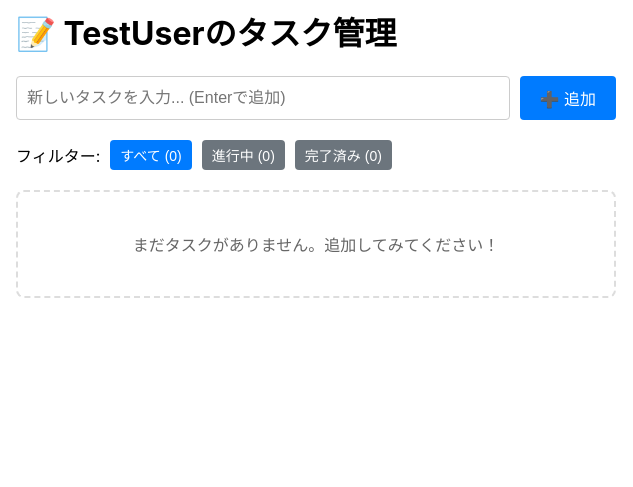
Test case: Task Filtering Integration Tests (US2) › フィルター切り替えの受入シナリオ › AS-003: 「進行中」フィルターで未完了タスクのみ表示される
3つのタスクを追加
In the field with placeholder "新しいタスクを入力... (Enterで追加)": [263, 98] box [16,76,510,120], type "未完了タスク1"
Click the button "➕ 追加": [568, 98] box [520,76,616,120]
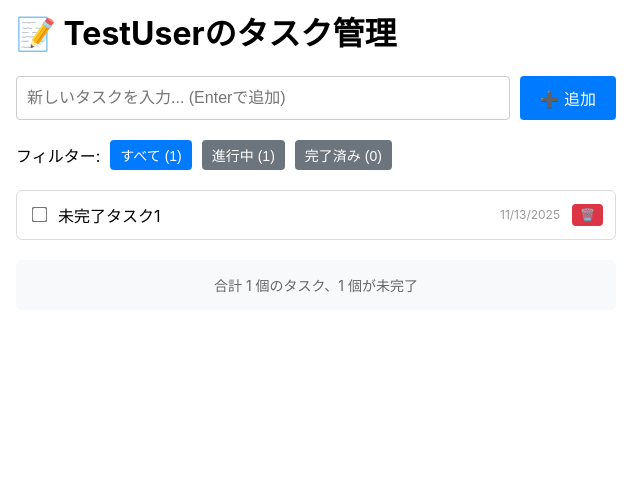
In the field with placeholder "新しいタスクを入力... (Enterで追加)": [263, 98] box [16,76,510,120], type "完了予定タスク"
Click the button "➕ 追加": [568, 98] box [520,76,616,120]
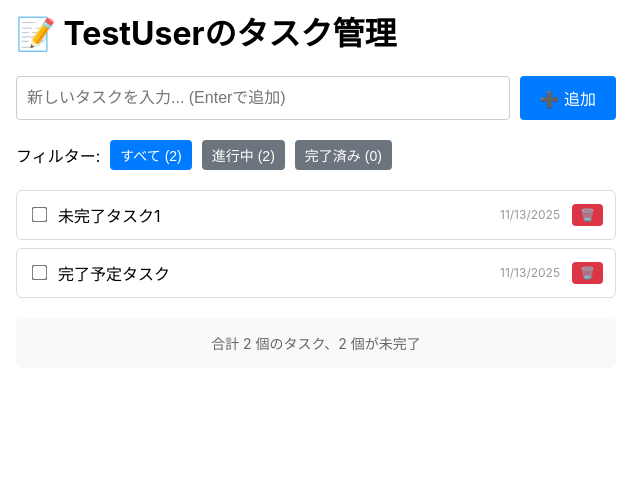
In the field with placeholder "新しいタスクを入力... (Enterで追加)": [263, 98] box [16,76,510,120], type "未完了タスク2"
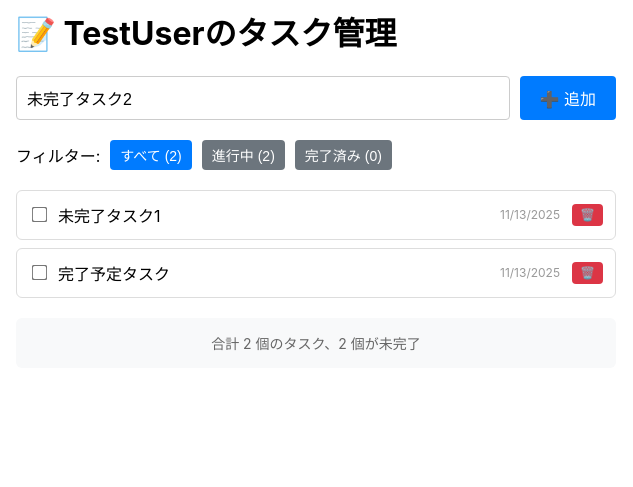
Click the button "➕ 追加": [568, 98] box [520,76,616,120]
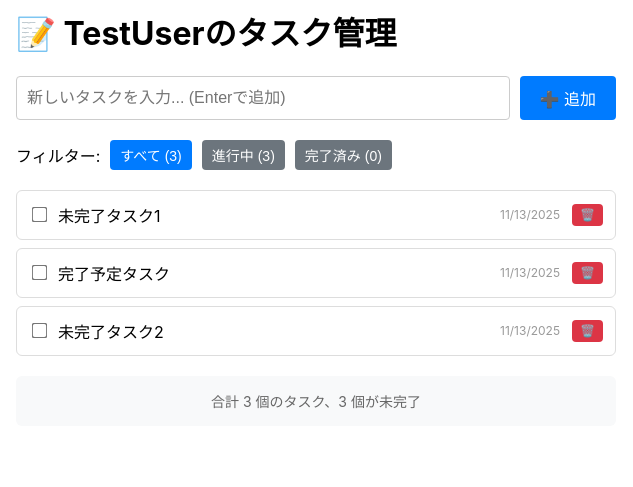
Check: the number of checkboxes is 3
1つを完了状態にする
Click the checkbox next to "完了予定タスク": [40, 273] box [32,265,47,281]
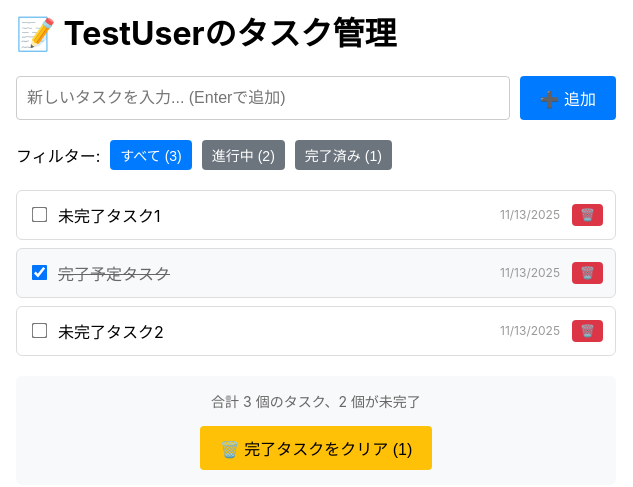
「進行中」フィルターをクリック
Click the button "進行中 (2)": [243, 155] box [202,140,285,170]
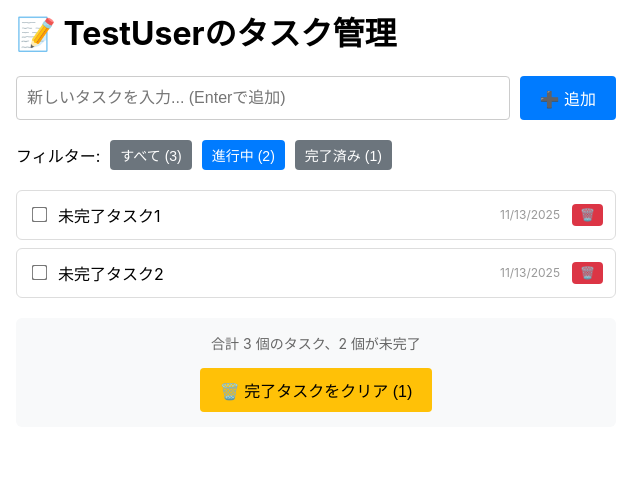
Check: the text "未完了タスク1" is shown, box [58,206,160,226]
Check: the text "未完了タスク2" is shown, box [58,264,164,284]
Check: the text "完了予定タスク" is gone
